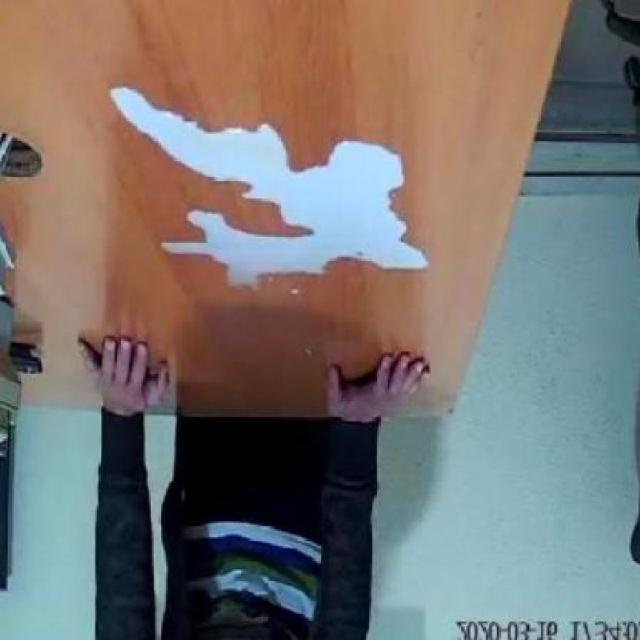spillage: (109, 85, 429, 287)
